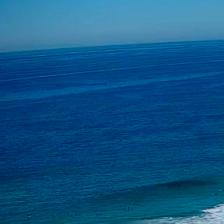surfer: (217, 189, 223, 193), (96, 213, 102, 216), (27, 214, 32, 217), (71, 212, 74, 216), (127, 207, 130, 211), (133, 202, 136, 205), (214, 192, 217, 195), (51, 217, 53, 219)
